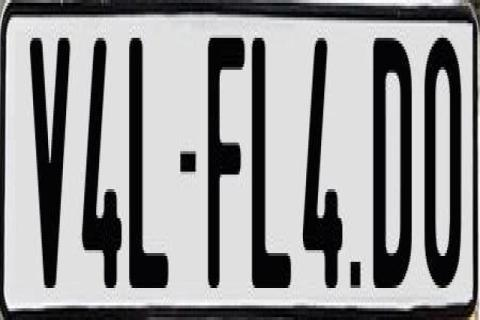0: (302, 29, 345, 297), (82, 32, 126, 291), (422, 35, 465, 291)
D: (374, 29, 416, 288)
F: (204, 35, 244, 288)
L: (252, 32, 296, 282), (128, 32, 170, 291)
V: (30, 38, 70, 302)
